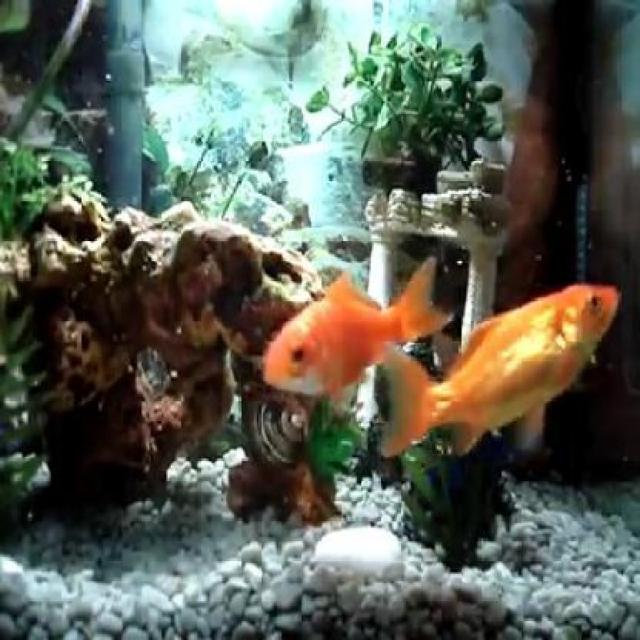GoldFish: (392, 286, 622, 457), (259, 272, 443, 398)
